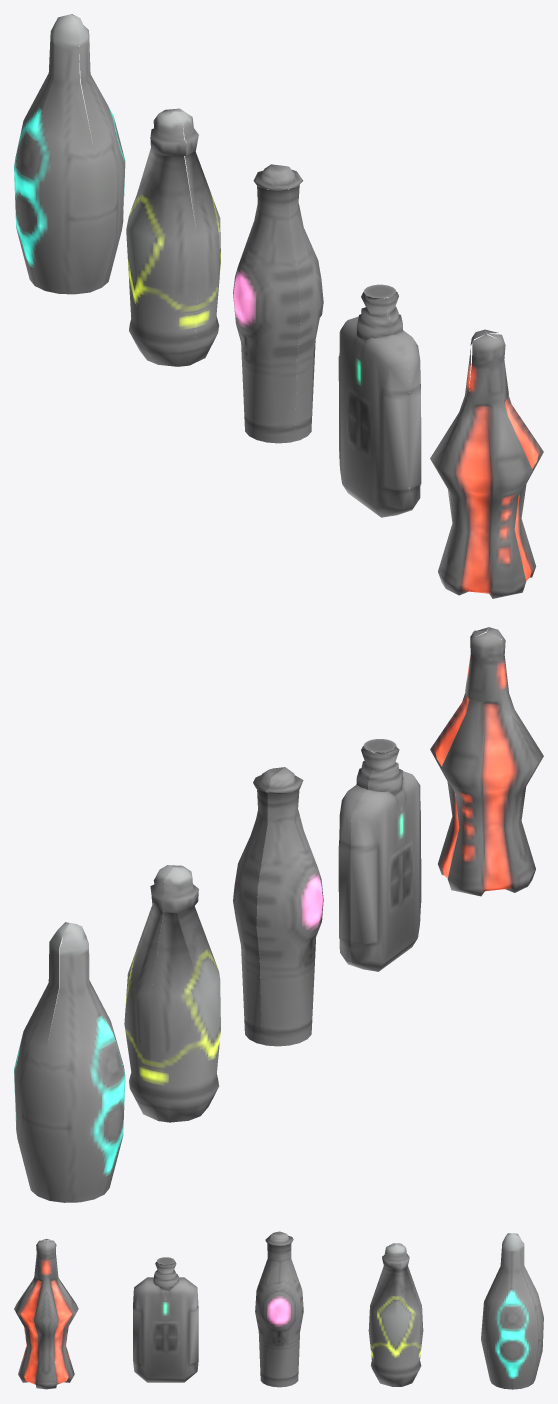
File: bar_bottles_4_b.glb
The picture shows the model from 3 angles, top to bottom: view 1: azimuth 30°, elevation 25°; view 2: azimuth 150°, elevation 25°; view 3: azimuth 270°, elevation 25°; orthographic projection. The views are drawn at different scales.
Visible parts, largest first — view 1: bar_bottles_4; view 2: bar_bottles_4; view 3: bar_bottles_4.
Part boxes in pixels (<box>): bar_bottles_4: <box>14,14,543,598</box>; bar_bottles_4: <box>14,627,543,1202</box>; bar_bottles_4: <box>14,1231,543,1389</box>.
Bounding box in the file's own units: 0.1321 × 0.3335 × 1.09.
Materials: 1 (1 with a texture image).
